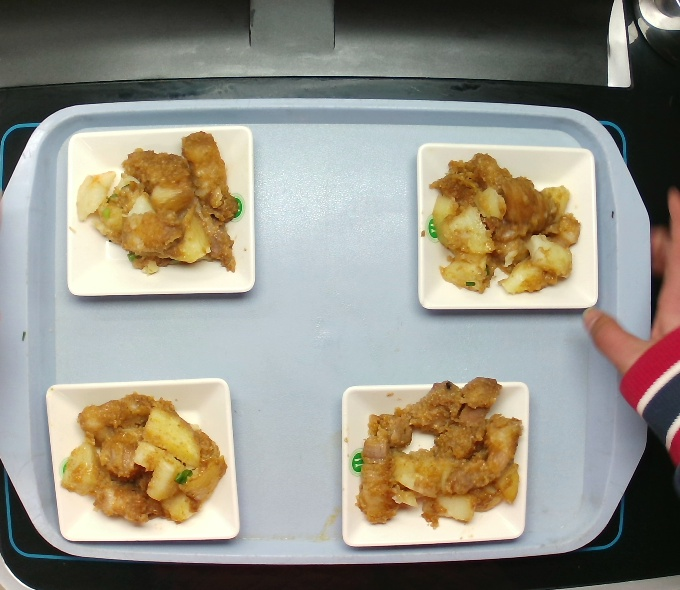wcq-FenZhenRou: (354, 367, 521, 534), (423, 141, 575, 304), (89, 124, 234, 276), (65, 394, 221, 522)
